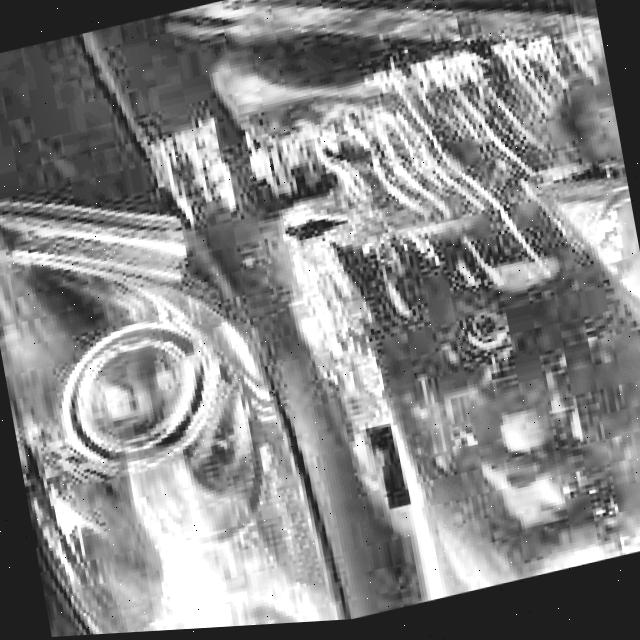bumper_scratch: (237, 19, 640, 434), (154, 105, 242, 245)
